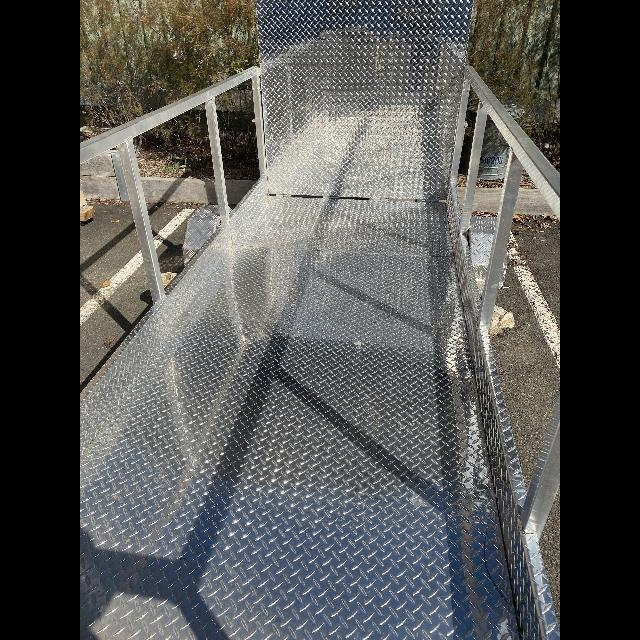Aluminium: (80, 65, 560, 640), (256, 0, 474, 200)
Galvanized Steel: (478, 120, 510, 180), (111, 152, 130, 201)
